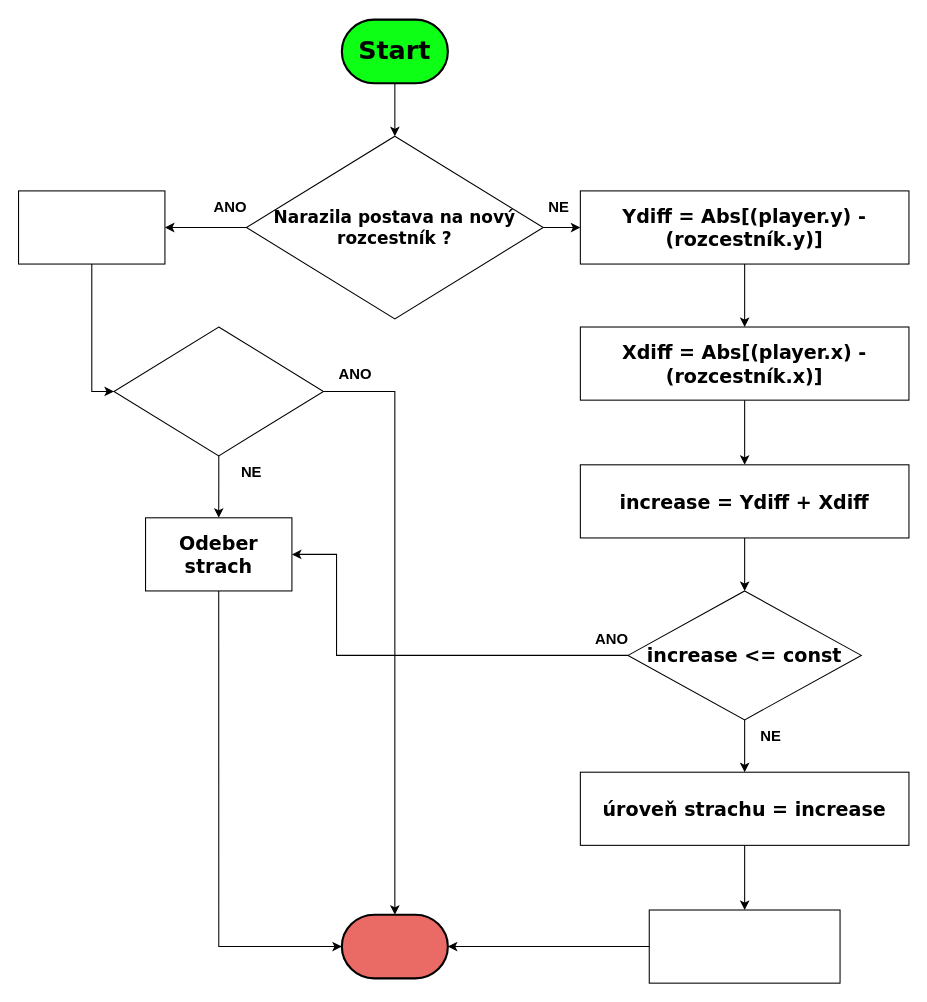
Image size: 927x1002. Some labels were removed from this diagram. Each missing label, with the centre of its shape:
Je strach na 0 ?: (x=218, y=391)
Konec: (x=394, y=946)
Ulož si X a Y rozcestníku: (x=91, y=227)
Zvyš úroveň strachu: (x=744, y=946)
